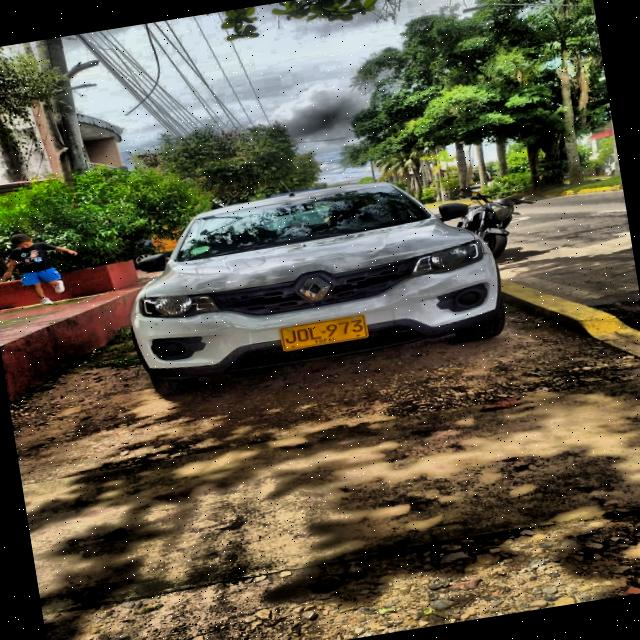3: (350, 319, 364, 334)
7: (338, 321, 352, 336)
9: (325, 323, 339, 337)
J: (284, 330, 298, 345)
L: (308, 326, 322, 341)
O: (296, 328, 310, 342)
